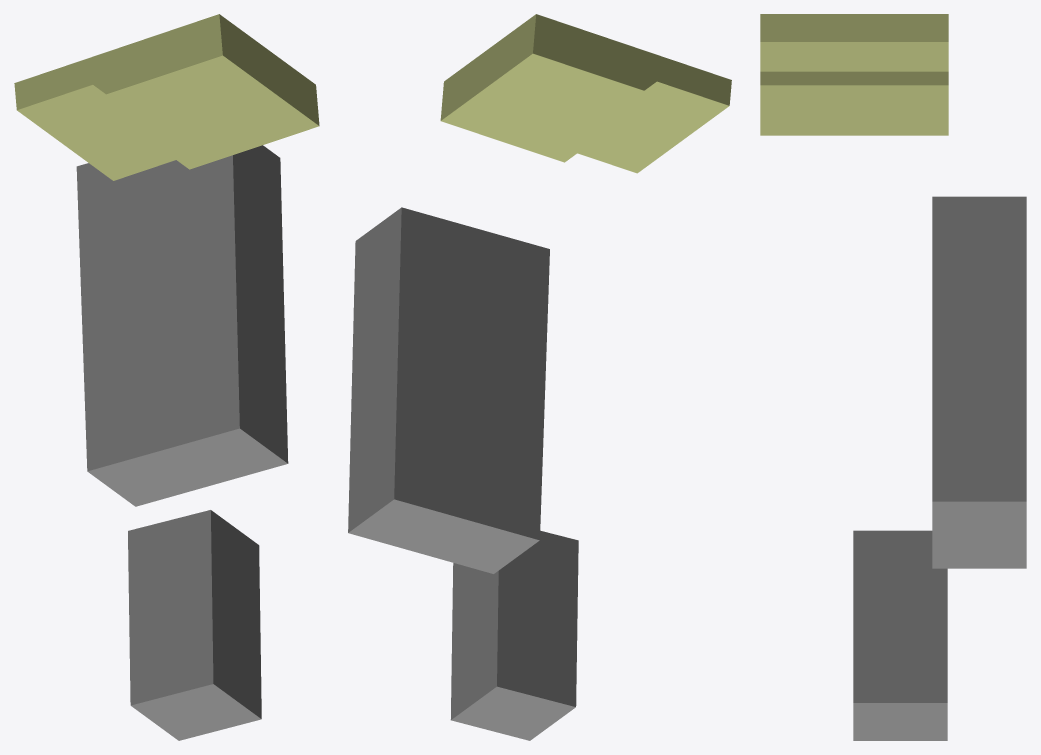
3 views of the same model, side by side, from view 1: azimuth 30°, elevation 25°; view 2: azimuth 150°, elevation 25°; view 3: azimuth 270°, elevation 25° (orthographic). The views are drawn at different scales.
Visible parts, largest first — view 1: 0_2_3_3_3_1_0_2_3_1; view 2: 0_2_3_3_3_1_0_2_3_1; view 3: 0_2_3_3_3_1_0_2_3_1.
Part boxes in pixels (bbox=[...]): 0_2_3_3_3_1_0_2_3_1: bbox=[14, 14, 319, 740]; 0_2_3_3_3_1_0_2_3_1: bbox=[348, 14, 731, 740]; 0_2_3_3_3_1_0_2_3_1: bbox=[760, 14, 1026, 740].
Bounding box in the file's own units: 9.51 × 22.92 × 8.48.
